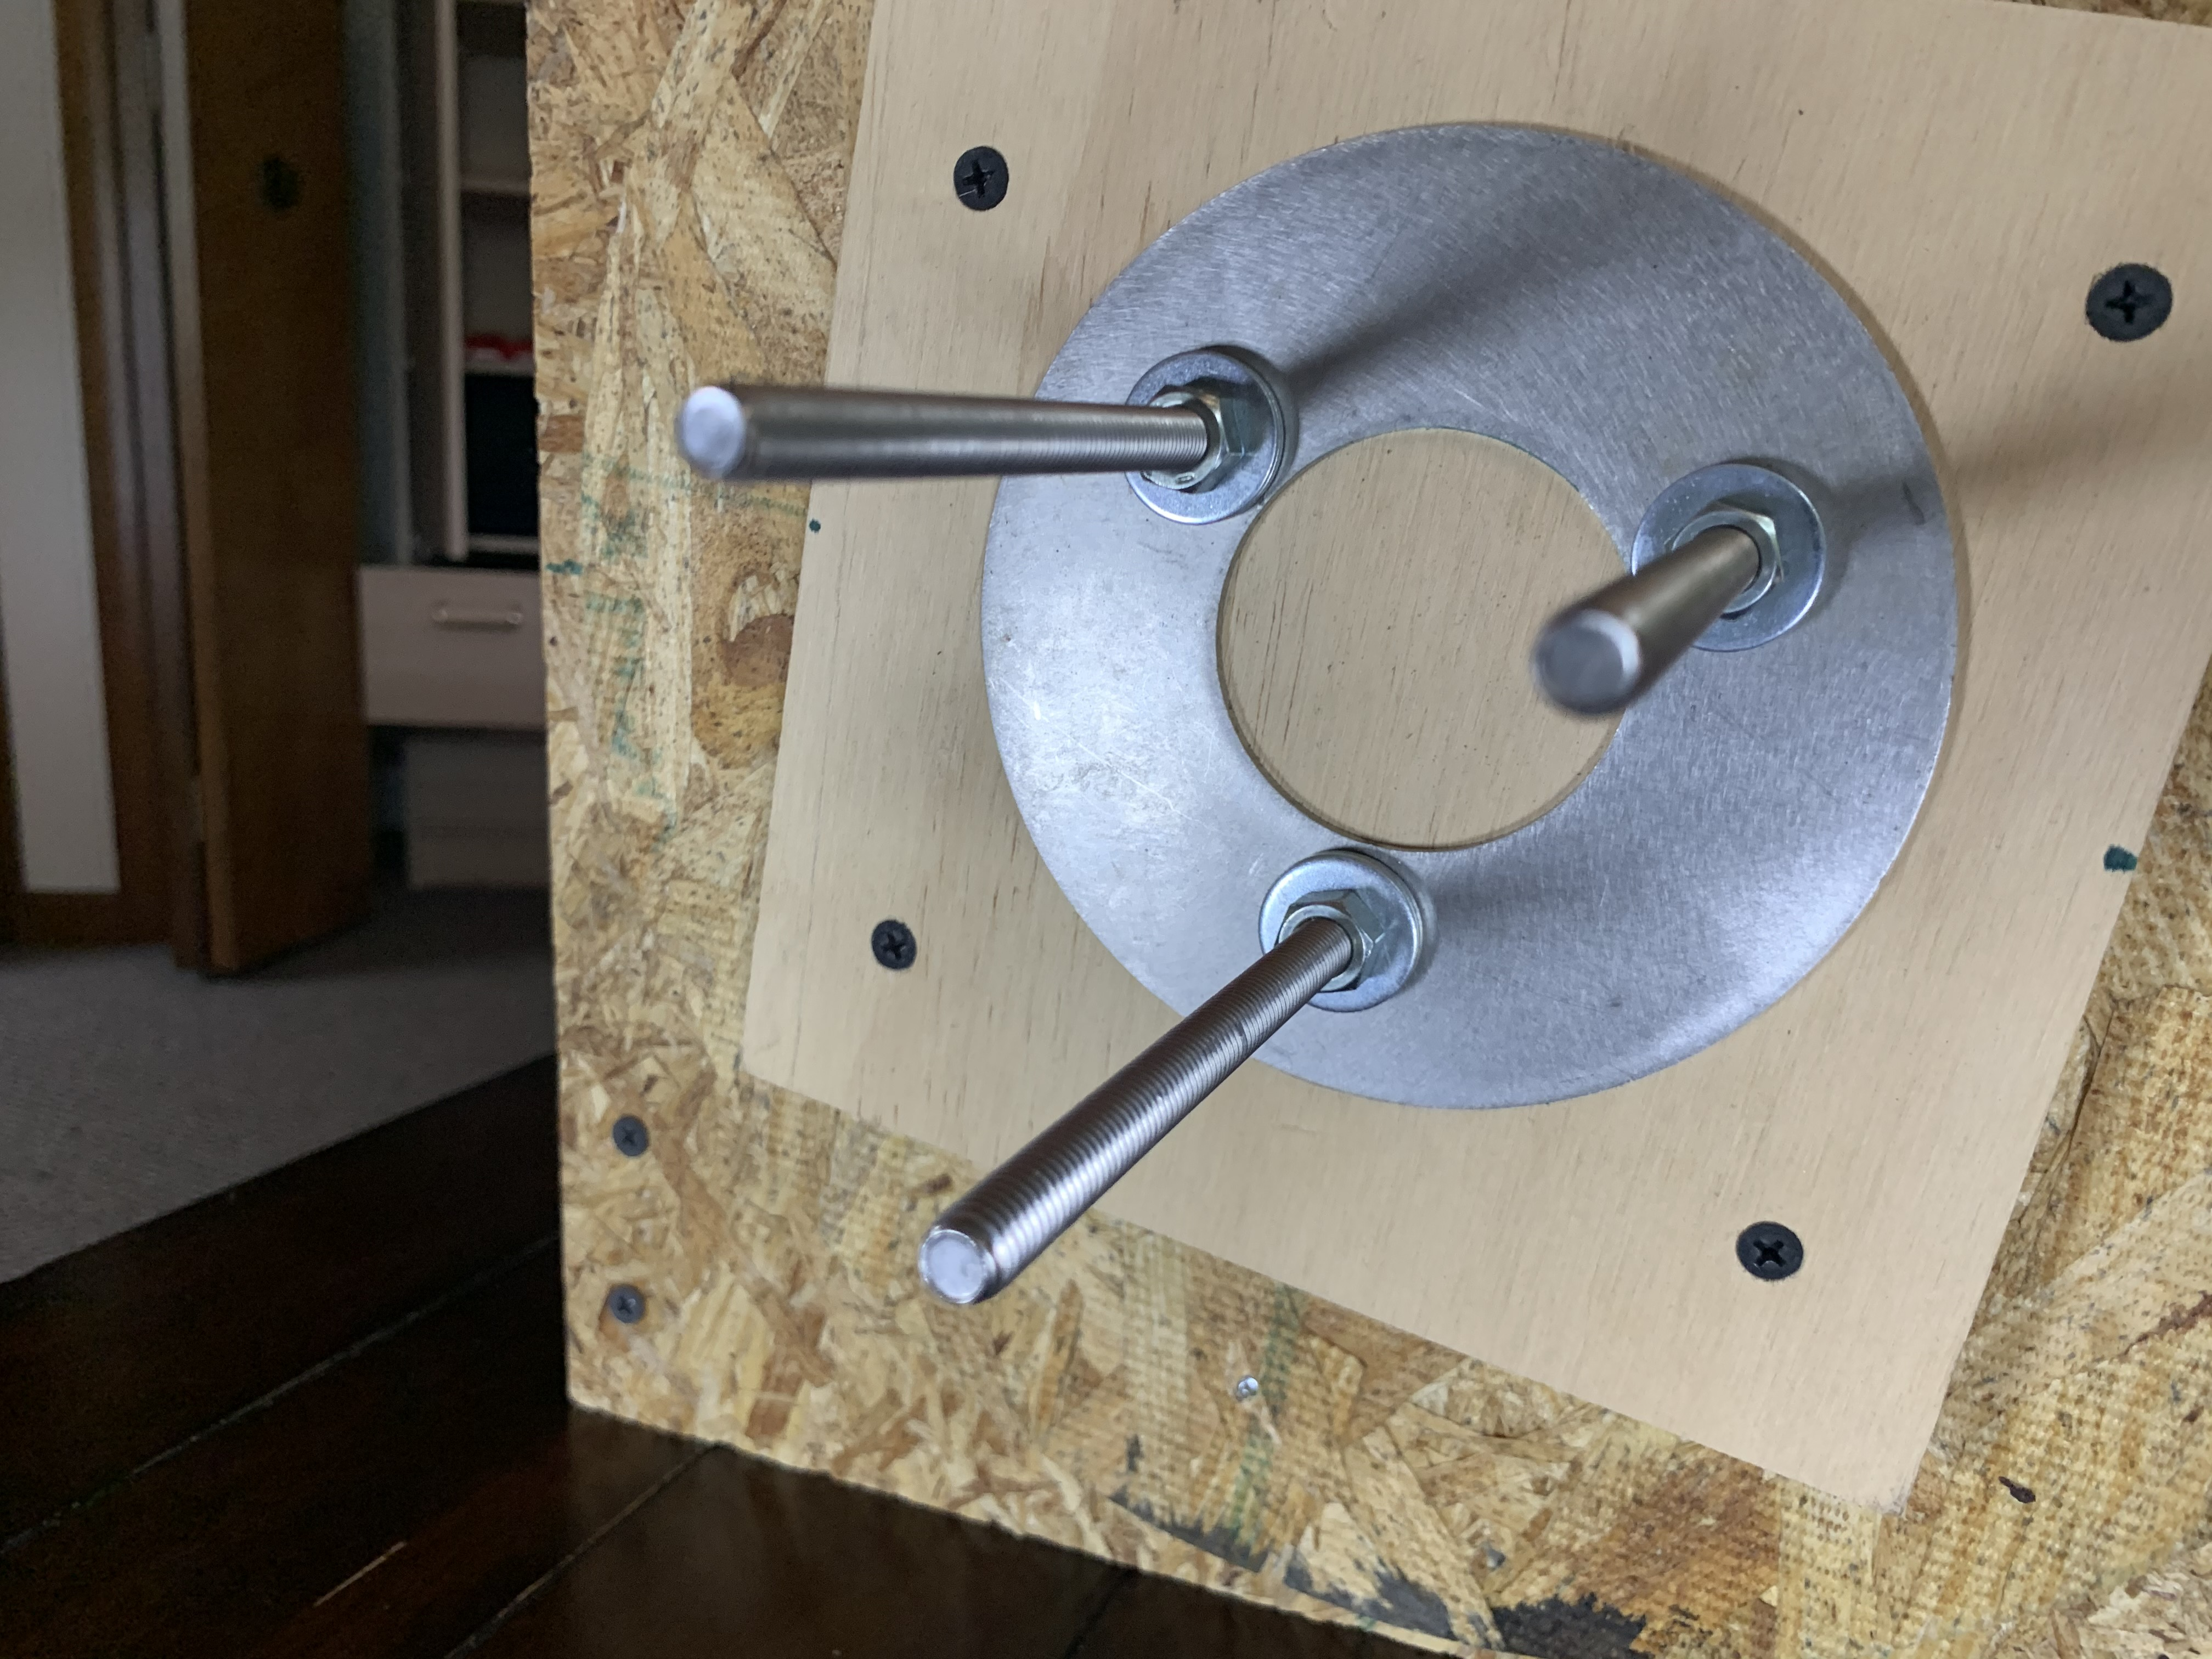bolt: (1625, 460, 1832, 655), (1254, 845, 1430, 1018), (1118, 342, 1289, 519)
